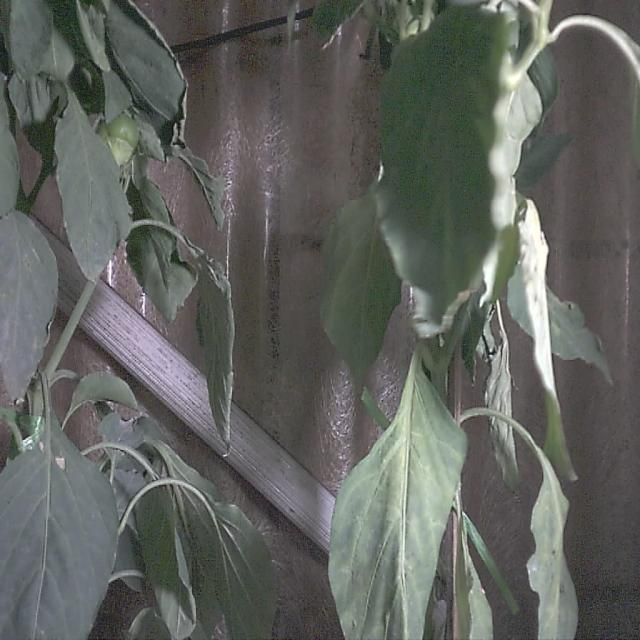Leaf: (378, 7, 510, 335), (329, 352, 466, 639), (0, 420, 117, 639), (322, 191, 401, 382), (55, 93, 130, 281), (0, 211, 58, 398), (197, 259, 234, 445)
